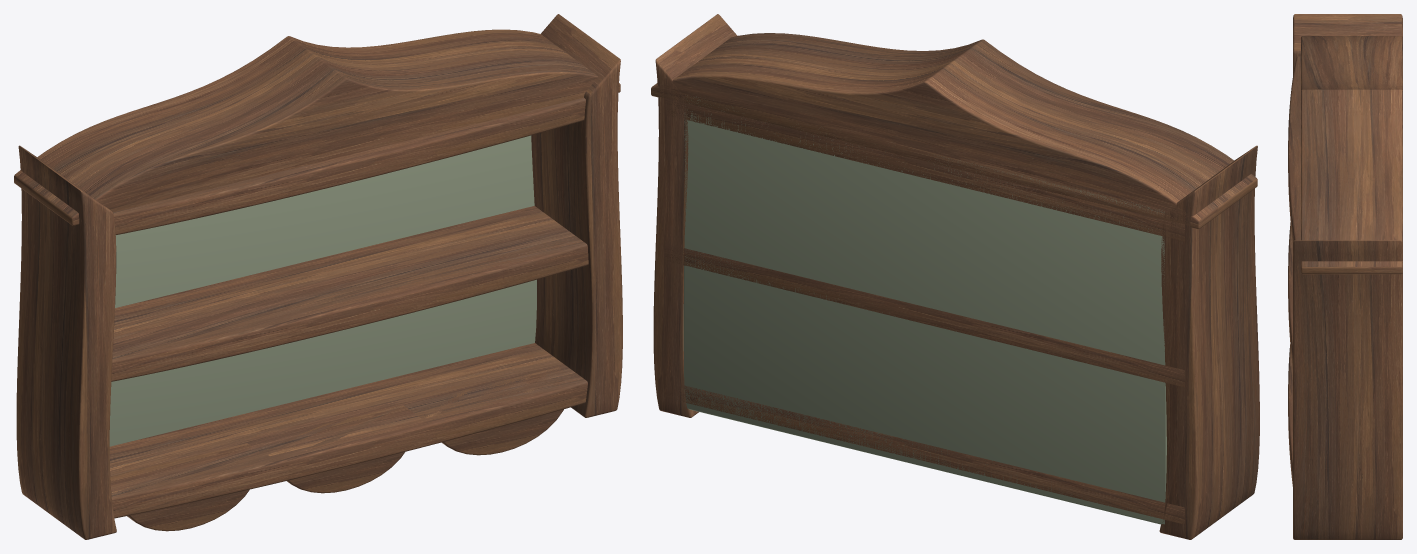
Rendered from CM_SW12_RecordsCabinet.fbx.
The picture shows the model from 3 angles, left to right: view 1: azimuth 30°, elevation 25°; view 2: azimuth 150°, elevation 25°; view 3: azimuth 270°, elevation 25°; orthographic projection. The views are drawn at different scales.
Visible parts, largest first — view 1: CM_SW12_RecordsCabinet; view 2: CM_SW12_RecordsCabinet; view 3: CM_SW12_RecordsCabinet.
Boxes of the visible parts, x1,y1,x2,y2 form: CM_SW12_RecordsCabinet: (14, 14, 622, 539); CM_SW12_RecordsCabinet: (651, 14, 1259, 539); CM_SW12_RecordsCabinet: (1288, 14, 1402, 539).
Bounding box in the file's own units: 1.34 × 0.9615 × 0.282.
